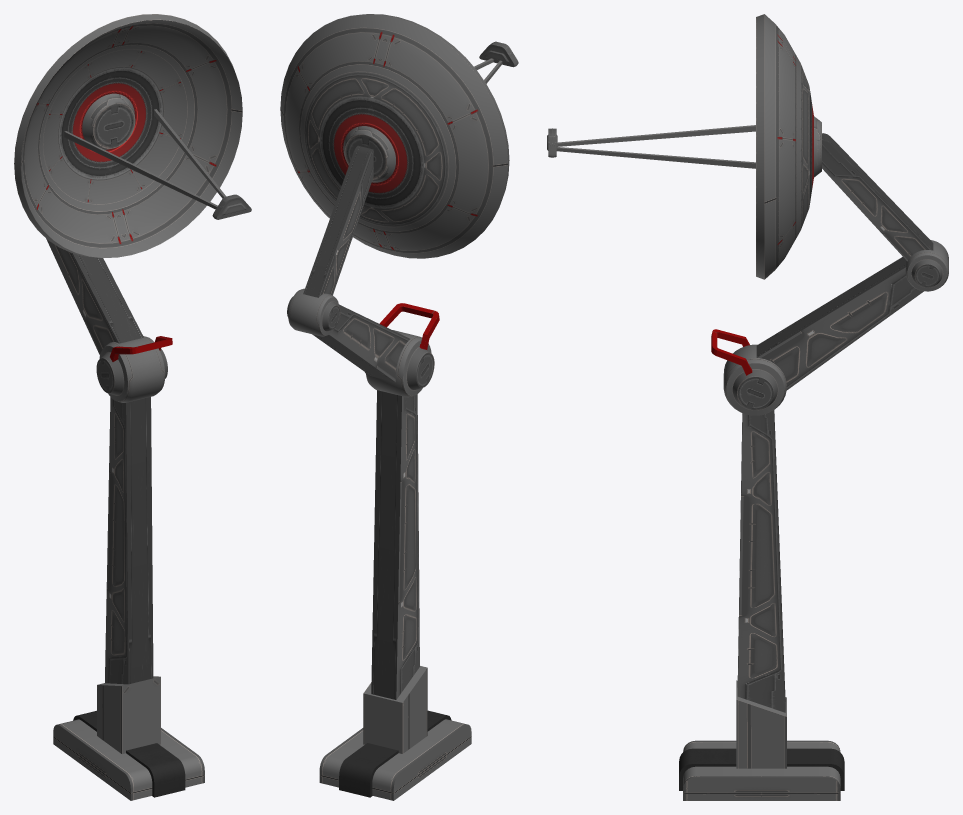
The model's file is Prop_SatelliteDish.gltf.
3 views of the same model, side by side, from view 1: azimuth 30°, elevation 25°; view 2: azimuth 150°, elevation 25°; view 3: azimuth 270°, elevation 25° (orthographic).
Visible parts, largest first — view 1: Prop_SatelliteDish; view 2: Prop_SatelliteDish; view 3: Prop_SatelliteDish.
Boxes of the visible parts, box(x1,y1,x2,y2) form: Prop_SatelliteDish: box(14, 14, 251, 800); Prop_SatelliteDish: box(280, 14, 518, 800); Prop_SatelliteDish: box(547, 14, 948, 800).
Size of the model in its own units: 1.84 by 5.79 by 2.78.
Materials: 3 (3 with a texture image).
